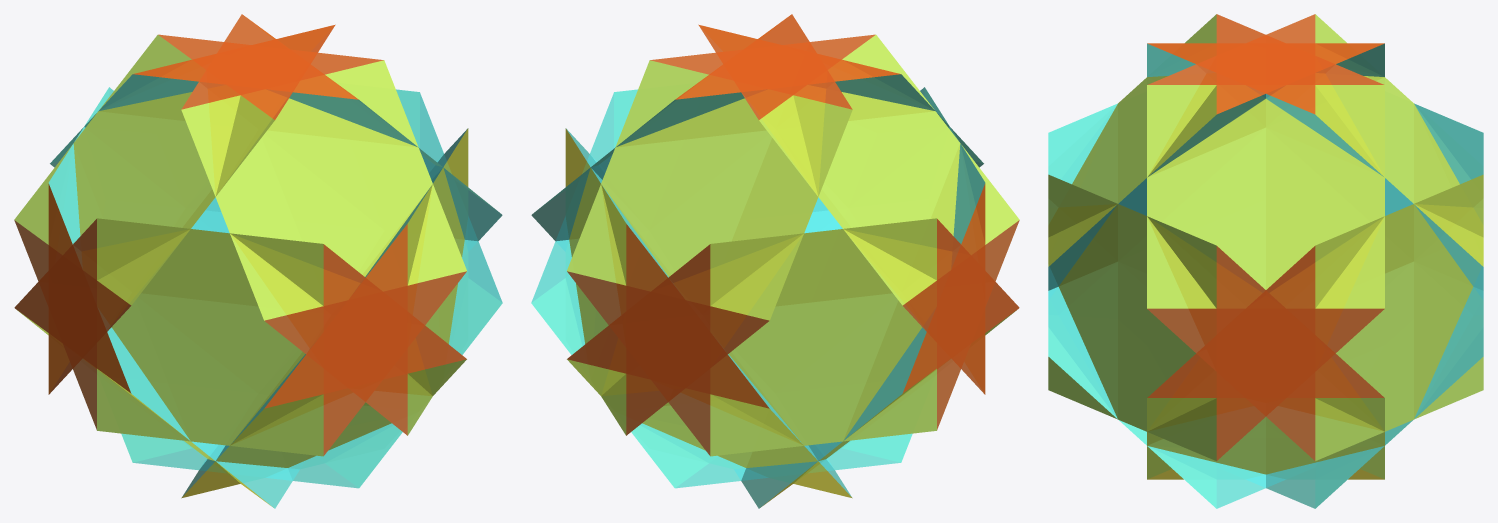
The model's file is GreatTruncatedCuboctahedron.obj.
3 renders of one model, left to right at view 1: azimuth 30°, elevation 25°; view 2: azimuth 150°, elevation 25°; view 3: azimuth 270°, elevation 25°, orthographic.
Bounding box in the file's own units: 1.83 × 1.83 × 1.83.
